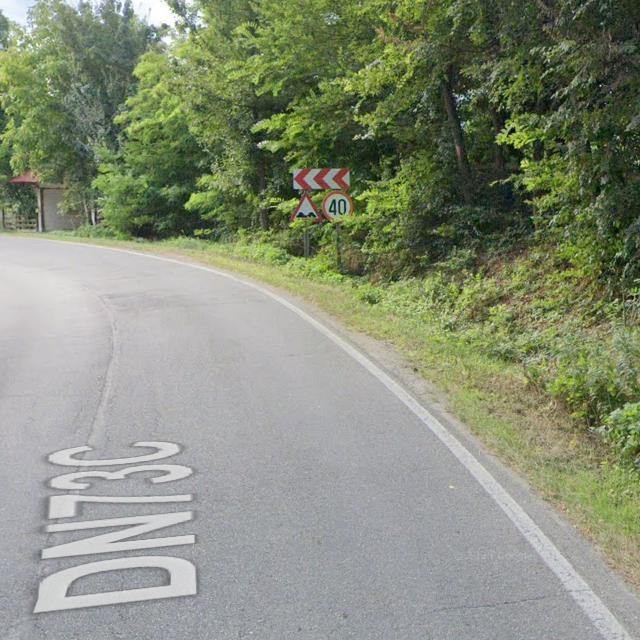forb_speed_over_40: (322, 192, 354, 223)
